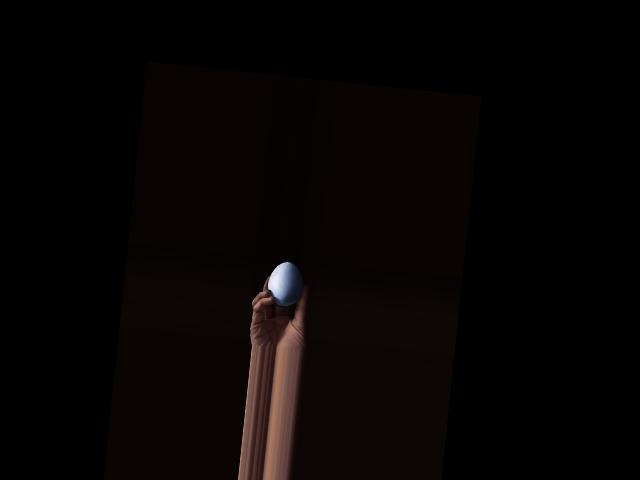egg: (265, 259, 304, 307)
